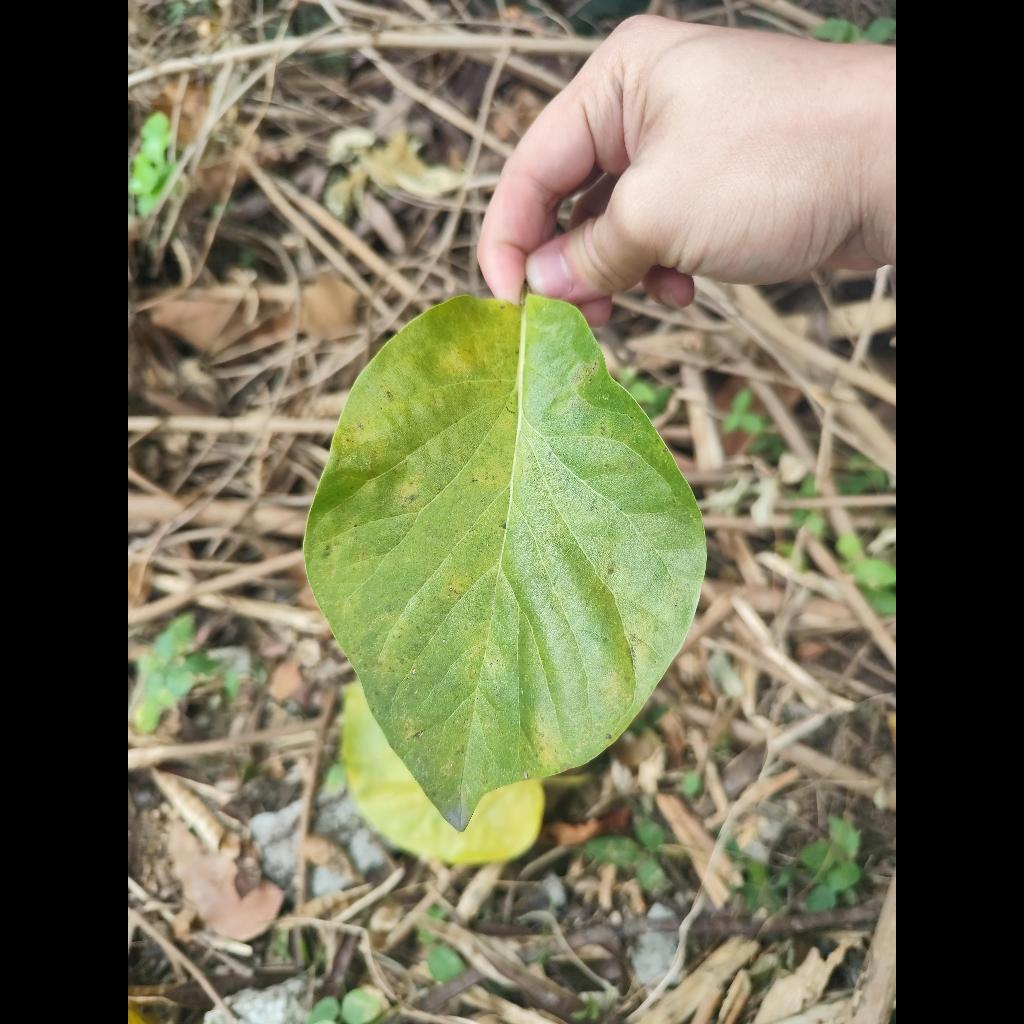nutrient_deficiency: (304, 295, 705, 829)
